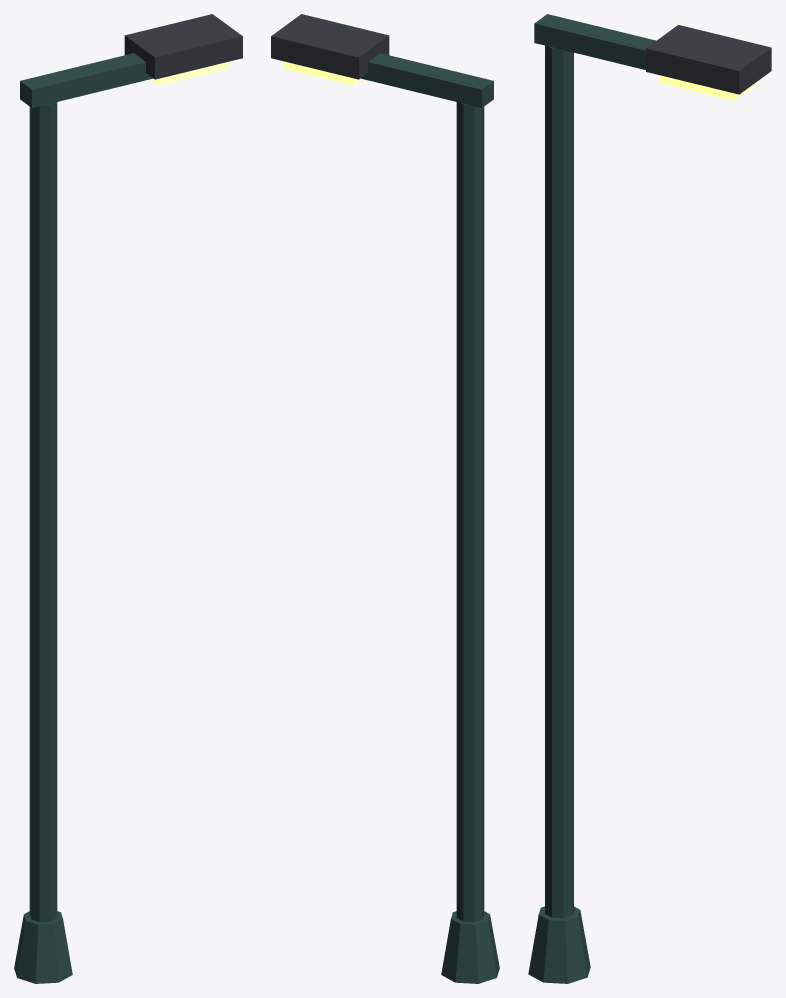
File: street_lamp.glb
3 renders of one model, left to right at view 1: azimuth 30°, elevation 25°; view 2: azimuth 150°, elevation 25°; view 3: azimuth 330°, elevation 25°, orthographic. The views are drawn at different scales.
Visible parts, largest first — view 1: street_lamp; view 2: street_lamp; view 3: street_lamp.
Part boxes in pixels (box(x1,y1,x2,y2)): street_lamp: box(14, 14, 242, 983); street_lamp: box(271, 14, 499, 983); street_lamp: box(528, 14, 771, 983).
Bounding box in the file's own units: 1.2 × 4.91 × 0.3.
